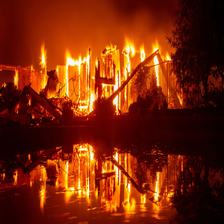fire: (3, 33, 196, 115), (9, 137, 208, 216)
